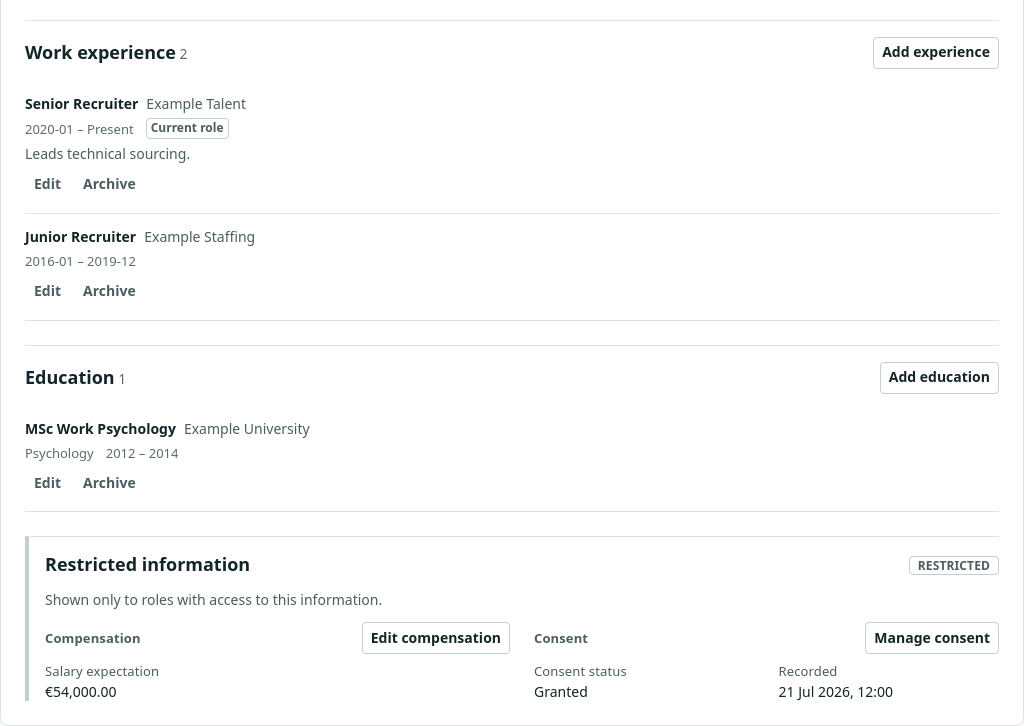
Test: Consent form › offers the four contract statuses by their localized labels, carrying the enum values
(page scrolled)
What coordinates should you click on to do the following:
click the button "Manage consent"
I would click on:
 (932, 638)
Its box is [865,622,999,654].
(page scrolled)
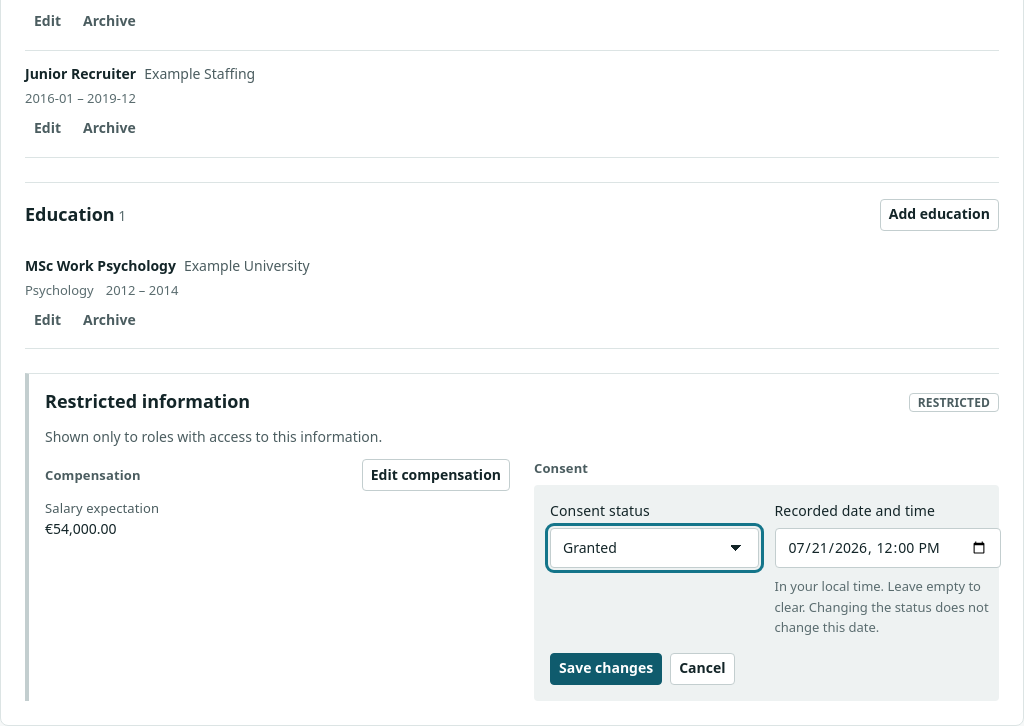
expect the dropdown labelled "Consent status" shows "Granted": met, box [550,528,758,568]
expect the text "Changing the status does not change this date." is shown: met, box [774,577,989,636]
